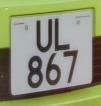6: (44, 51, 64, 89)
7: (61, 47, 83, 89)
8: (23, 50, 47, 93)
L: (53, 14, 74, 53)
U: (33, 14, 57, 55)
